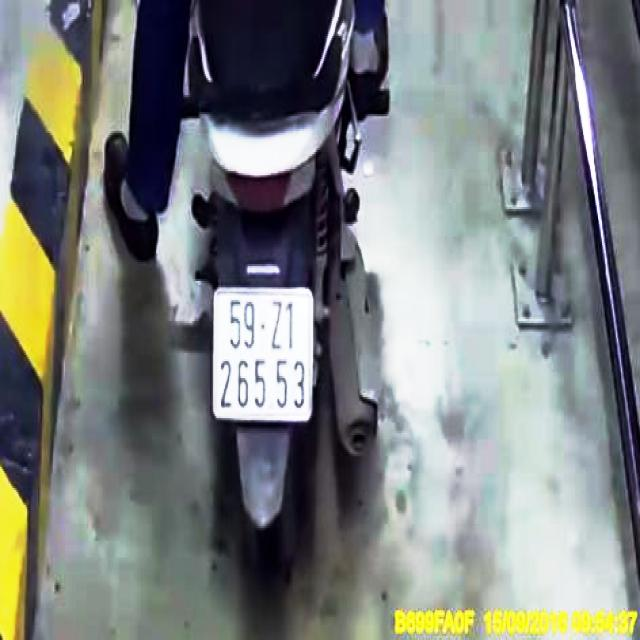license_plate: (214, 289, 311, 421)
